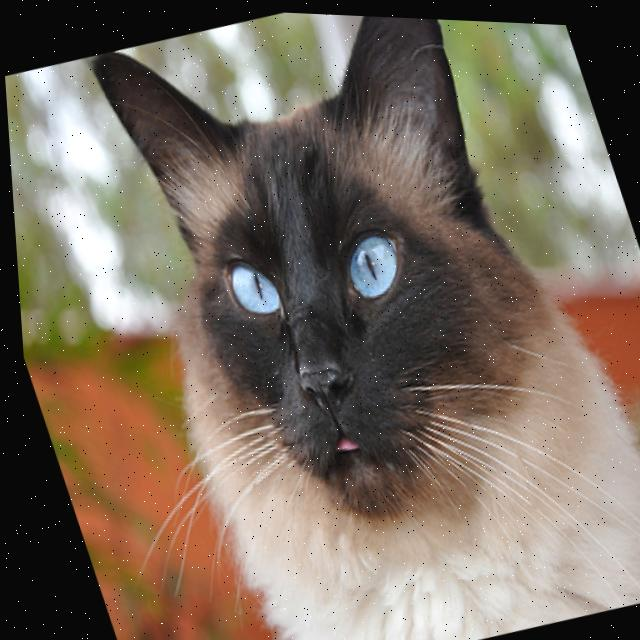Birman: (49, 2, 640, 640)
